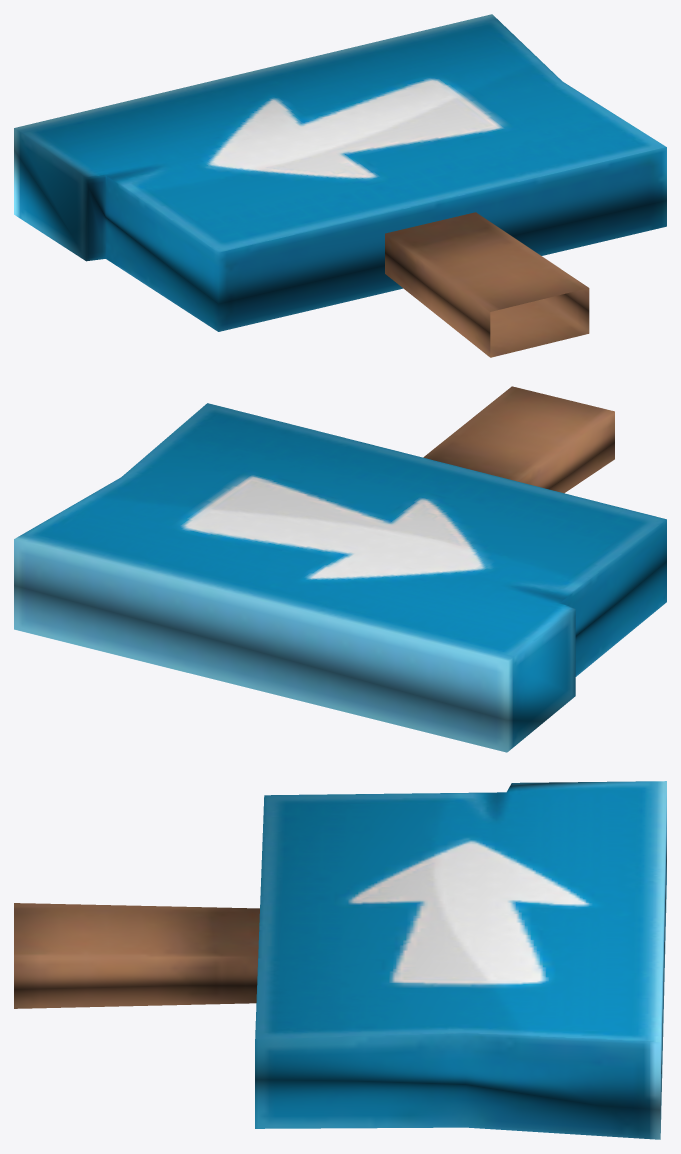
The model's file is BlueArrowSign.fbx.
3 views of the same model, one above another, from view 1: azimuth 30°, elevation 25°; view 2: azimuth 150°, elevation 25°; view 3: azimuth 270°, elevation 25° (orthographic). The views are drawn at different scales.
Visible parts, largest first — view 1: BlueArrowSign; view 2: BlueArrowSign; view 3: BlueArrowSign.
Part boxes in pixels (bbox=[...]): BlueArrowSign: bbox=[14, 14, 666, 357]; BlueArrowSign: bbox=[14, 386, 666, 752]; BlueArrowSign: bbox=[14, 781, 666, 1139].
Bounding box in the file's own units: 47.64 × 8.28 × 50.31.
